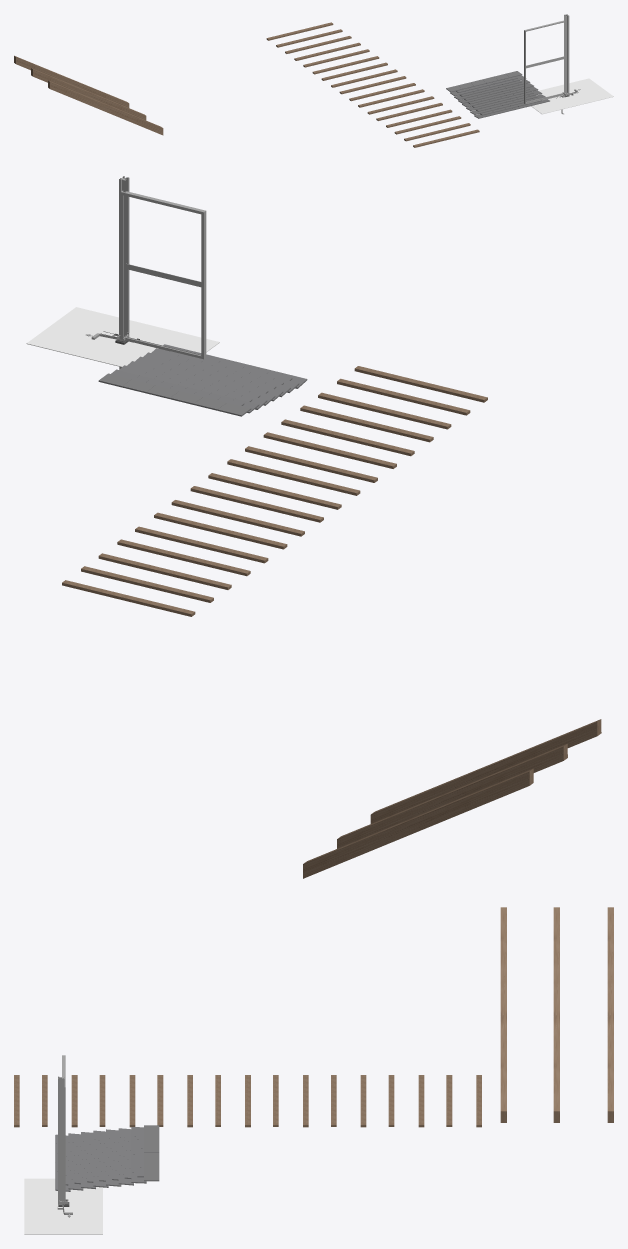
Rendered from solar_panel.glb.
3 renders of one model, top to bottom at view 1: azimuth 30°, elevation 25°; view 2: azimuth 150°, elevation 25°; view 3: azimuth 270°, elevation 25°, orthographic. The views are drawn at different scales.
Parts seen in each view (by area): view 1: Object_99, Object_102, Object_96, Object_78, Object_8, Object_74, Object_5; view 2: Object_99, Object_102, Object_78, Object_96, Object_8, Object_74, Object_5; view 3: Object_99, Object_102, Object_78, Object_96, Object_8, Object_5.
Boxes of the visible parts, <box> form: Object_99: <box>266,22,479,147</box>; Object_102: <box>14,55,163,135</box>; Object_96: <box>446,71,549,118</box>; Object_78: <box>531,78,613,114</box>; Object_8: <box>458,83,542,110</box>; Object_74: <box>524,20,565,104</box>; Object_5: <box>564,14,569,95</box>; Object_99: <box>62,366,487,616</box>; Object_102: <box>303,719,601,878</box>; Object_78: <box>26,307,219,367</box>; Object_96: <box>98,344,307,416</box>; Object_8: <box>127,352,290,405</box>; Object_74: <box>120,190,206,359</box>; Object_5: <box>119,176,129,338</box>; Object_99: <box>14,1075,481,1127</box>; Object_102: <box>500,907,613,1122</box>; Object_78: <box>24,1178,102,1234</box>; Object_96: <box>55,1125,159,1191</box>; Object_8: <box>81,1129,121,1189</box>; Object_5: <box>58,1076,64,1204</box>.
Size of the model in its own units: 9.54 by 3.48 by 7.59.
Materials: 11 (3 with a texture image).
